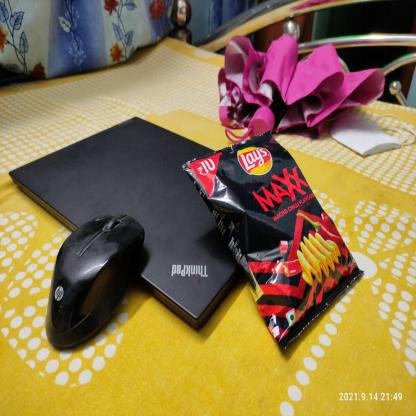max_chili: (199, 153, 348, 339)
